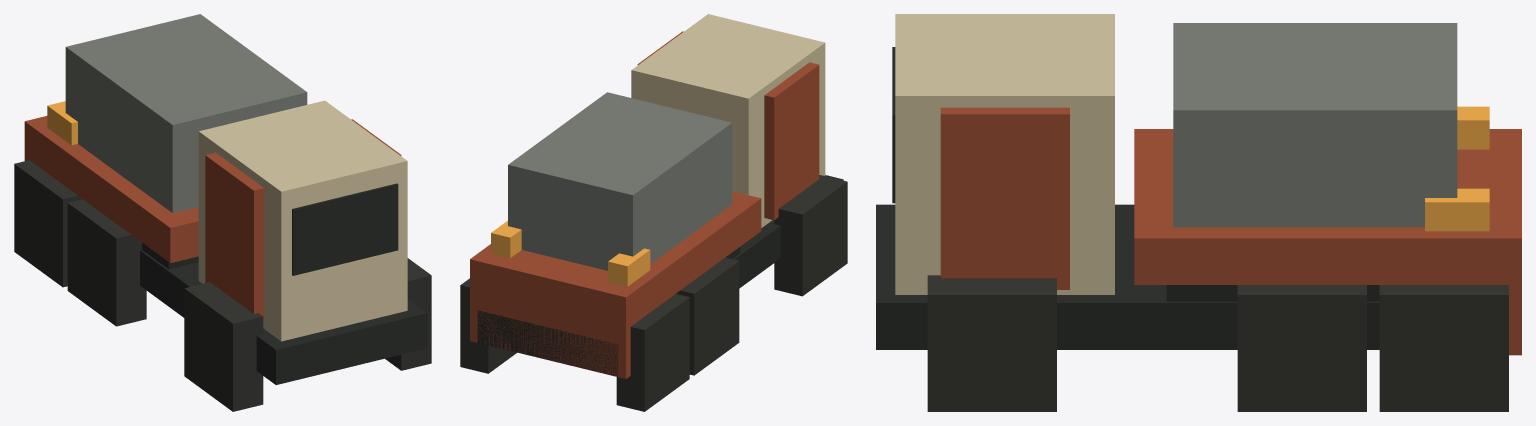
File: truck.gltf
3 views of the same model, side by side, from view 1: azimuth 30°, elevation 25°; view 2: azimuth 150°, elevation 25°; view 3: azimuth 270°, elevation 25° (orthographic). The views are drawn at different scales.
Parts seen in each view (by area): view 1: pallet, cab, chassis, wheel_-1_0Mesh, doorPanel-1, bed, wheel_-1_1Mesh, windshield, wheel_-1_2Mesh, wheel_1_0Mesh, tailgatePanel, brakeLight-1 (+1 smaller); view 2: pallet, cab, tailgatePanel, doorPanel-1, wheel_-1_0Mesh, chassis, wheel_-1_2Mesh, bed, wheel_-1_1Mesh, wheel_1_2Mesh, brakeLight-1, brakeLight1; view 3: pallet, cab, bed, doorPanel1, wheel_1_0Mesh, chassis, wheel_1_1Mesh, wheel_1_2Mesh, tailgatePanel, brakeLight1, brakeLight-1, bedMount (+1 smaller).
Boxes of the visible parts, left/top/right/bottom form: pallet: left=65, top=14, right=307, bottom=212; cab: left=198, top=100, right=407, bottom=341; chassis: left=140, top=250, right=427, bottom=384; wheel_-1_0Mesh: left=184, top=282, right=263, bottom=411; doorPanel-1: left=205, top=152, right=264, bottom=320; bed: left=49, top=136, right=198, bottom=262; wheel_-1_1Mesh: left=67, top=199, right=146, bottom=326; windshield: left=292, top=183, right=398, bottom=275; wheel_-1_2Mesh: left=14, top=160, right=82, bottom=287; wheel_1_0Mesh: left=385, top=258, right=431, bottom=370; tailgatePanel: left=24, top=116, right=58, bottom=173; brakeLight-1: left=47, top=101, right=77, bottom=145; pallet: left=508, top=92, right=732, bottom=270; cab: left=631, top=14, right=825, bottom=227; tailgatePanel: left=470, top=244, right=648, bottom=378; doorPanel-1: left=764, top=62, right=819, bottom=220; wheel_-1_0Mesh: left=774, top=175, right=847, bottom=296; chassis: left=477, top=175, right=843, bottom=376; wheel_-1_2Mesh: left=616, top=294, right=689, bottom=411; bed: left=639, top=191, right=761, bottom=312; wheel_-1_1Mesh: left=676, top=257, right=739, bottom=375; wheel_1_2Mesh: left=460, top=278, right=516, bottom=373; brakeLight-1: left=608, top=248, right=650, bottom=286; brakeLight1: left=491, top=221, right=521, bottom=257; pallet: left=1173, top=23, right=1457, bottom=227; cab: left=895, top=14, right=1114, bottom=294; bed: left=1134, top=129, right=1457, bottom=284; doorPanel1: left=940, top=107, right=1069, bottom=289; wheel_1_0Mesh: left=927, top=275, right=1056, bottom=411; chassis: left=876, top=204, right=1379, bottom=349; wheel_1_1Mesh: left=1237, top=285, right=1366, bottom=411; wheel_1_2Mesh: left=1379, top=285, right=1508, bottom=411; tailgatePanel: left=1457, top=129, right=1521, bottom=355; brakeLight1: left=1425, top=188, right=1489, bottom=231; brakeLight-1: left=1457, top=106, right=1489, bottom=149; bedMount: left=1166, top=285, right=1379, bottom=301.
Bounding box in the file's own units: 1.18 × 1.25 × 2.5.
